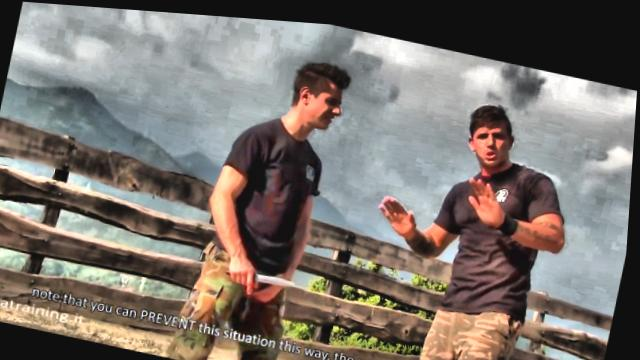knife: (223, 257, 305, 300)
